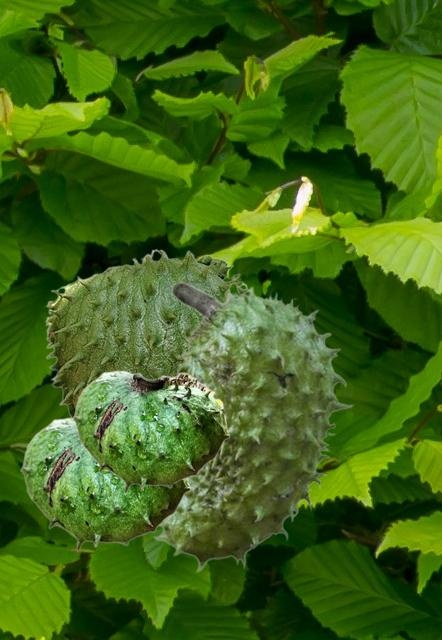guyabano: (152, 281, 353, 572), (45, 248, 248, 416), (20, 417, 190, 551), (72, 370, 229, 493)
